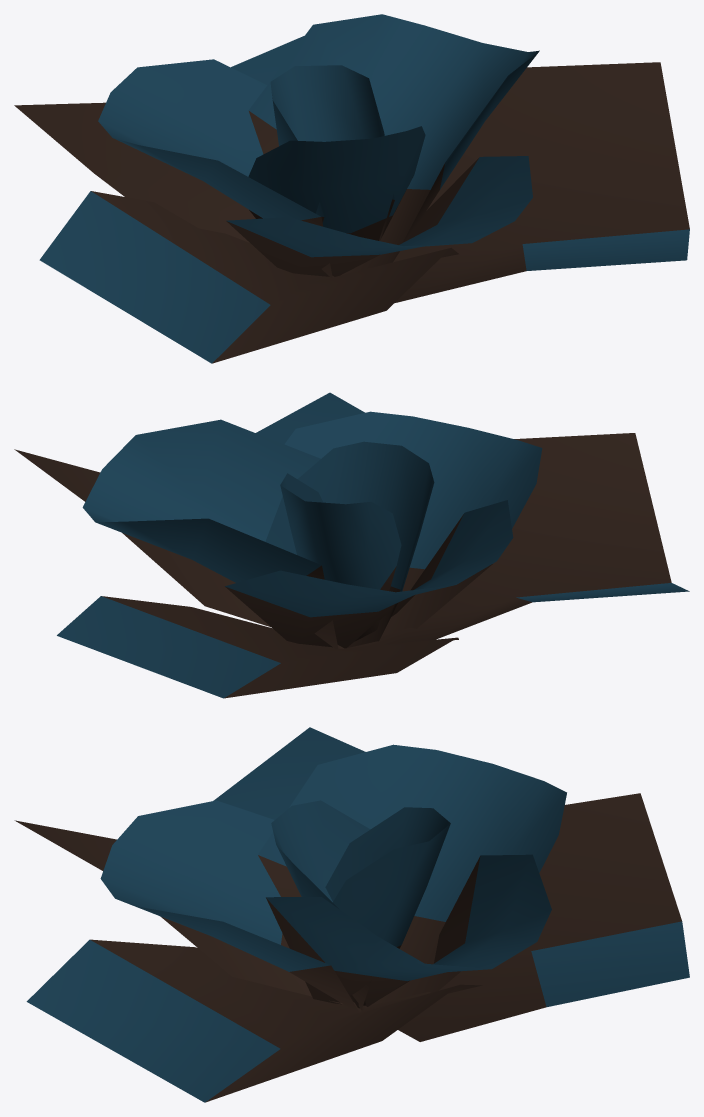
File: itch_assetquest_pond_water_lettuce_3.glb
3 renders of one model, top to bottom at view 1: azimuth 30°, elevation 25°; view 2: azimuth 150°, elevation 25°; view 3: azimuth 270°, elevation 25°, orthographic. The views are drawn at different scales.
Parts seen in each view (by area): view 1: Water_Lettuce_3; view 2: Water_Lettuce_3; view 3: Water_Lettuce_3.
Part boxes in pixels (x1,y1,x2,y2): Water_Lettuce_3: [14, 14, 689, 363]; Water_Lettuce_3: [14, 392, 689, 698]; Water_Lettuce_3: [14, 727, 689, 1102].
Bounding box in the file's own units: 0.96 × 0.2618 × 0.8422.
